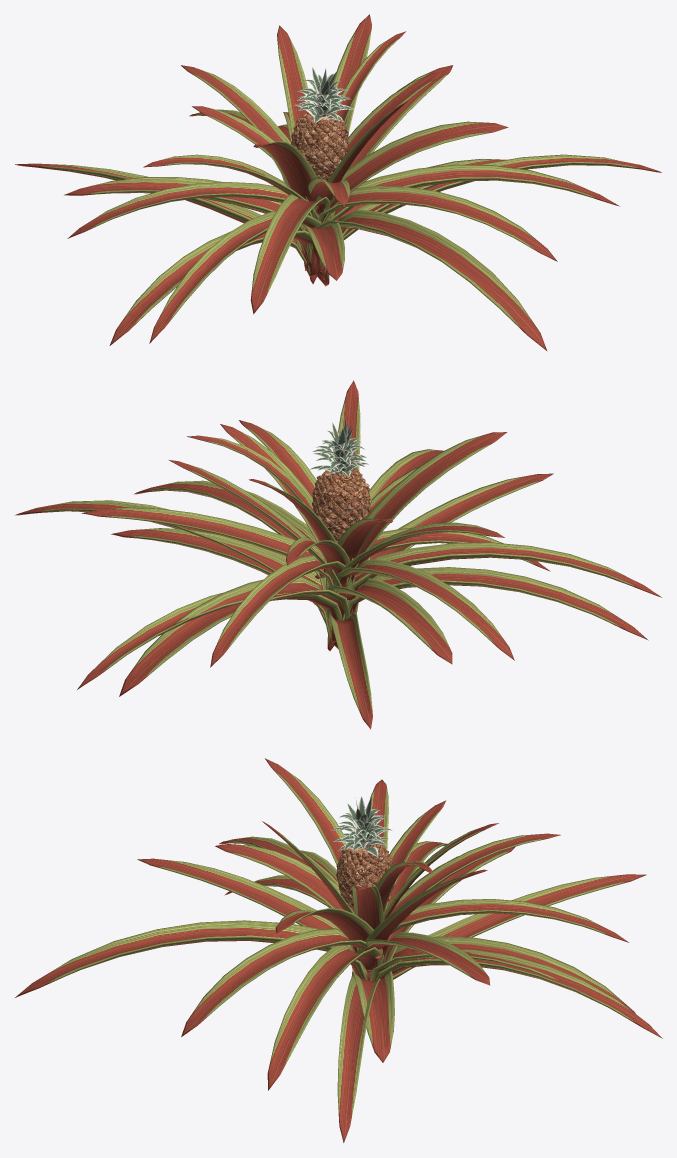
The picture shows the model from 3 angles, top to bottom: view 1: azimuth 30°, elevation 25°; view 2: azimuth 150°, elevation 25°; view 3: azimuth 270°, elevation 25°; orthographic projection.
Parts seen in each view (by area): view 1: Leaves, Froot, FrootLeaves; view 2: Leaves, Froot, FrootLeaves; view 3: Leaves, Froot, FrootLeaves.
Part boxes in pixels (bbox=[...]): Leaves: bbox=[15, 14, 661, 351]; Froot: bbox=[291, 112, 349, 215]; FrootLeaves: bbox=[294, 67, 353, 123]; Leaves: bbox=[15, 380, 661, 729]; Froot: bbox=[312, 468, 371, 542]; FrootLeaves: bbox=[309, 417, 368, 476]; Leaves: bbox=[15, 758, 662, 1142]; Froot: bbox=[336, 844, 395, 909]; FrootLeaves: bbox=[331, 796, 392, 857].
Size of the model in its own units: 67.3 by 24.71 by 63.27.
